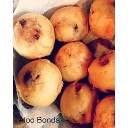bonda: (18, 60, 63, 107), (14, 13, 55, 56), (57, 40, 91, 82), (62, 84, 94, 126), (54, 6, 89, 41), (88, 49, 116, 92), (89, 1, 115, 44), (95, 93, 115, 128)
